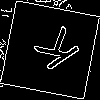K: (25, 25, 82, 78)
